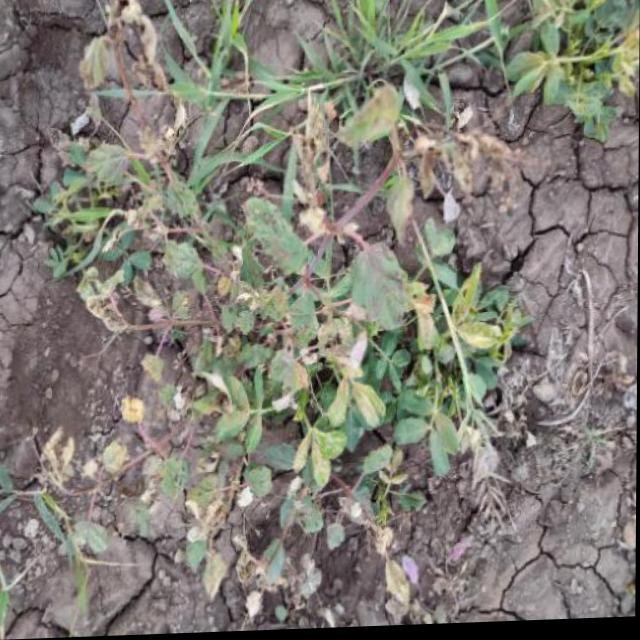weed: (122, 190, 562, 600), (78, 0, 640, 153)
